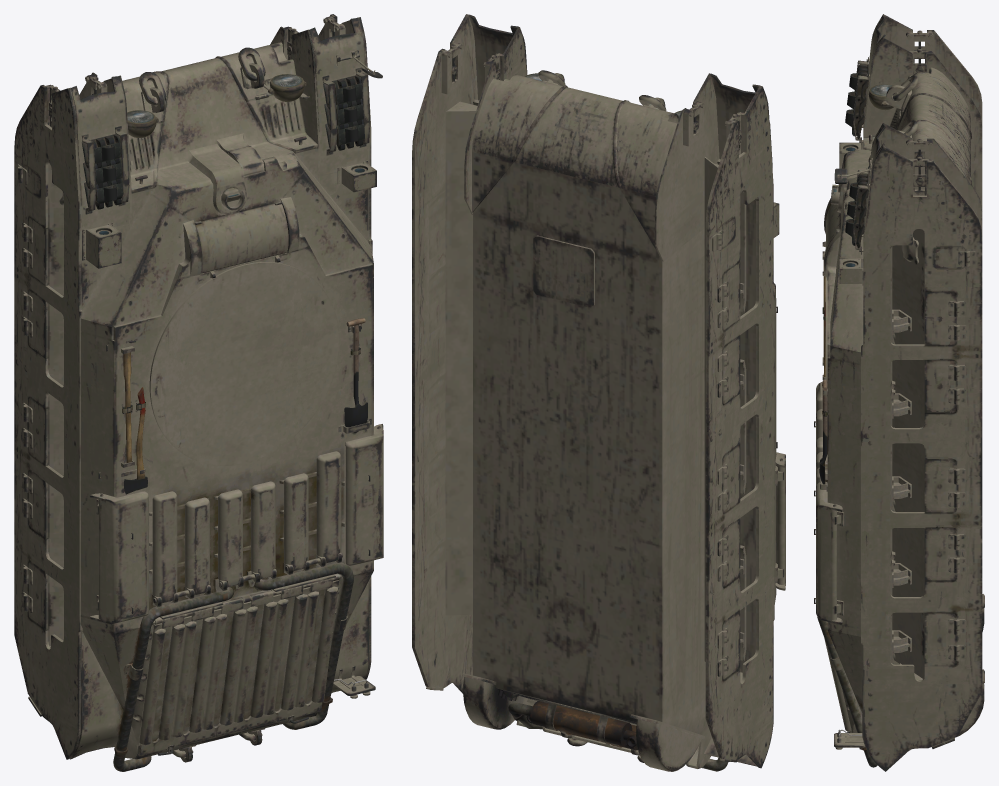
Rendered from Hull.glb.
3 renders of one model, left to right at view 1: azimuth 30°, elevation 25°; view 2: azimuth 150°, elevation 25°; view 3: azimuth 270°, elevation 25°, orthographic. The views are drawn at different scales.
Parts seen in each view (by area): view 1: set_0_group_0; view 2: set_0_group_0; view 3: set_0_group_0.
Boxes of the visible parts, x1=… form: set_0_group_0: x1=14, y1=14, x2=383, y2=771; set_0_group_0: x1=412, y1=14, x2=785, y2=771; set_0_group_0: x1=814, y1=14, x2=984, y2=771.
Size of the model in its own units: 2.59 by 5.71 by 1.37.
1 material, 1 textured.
